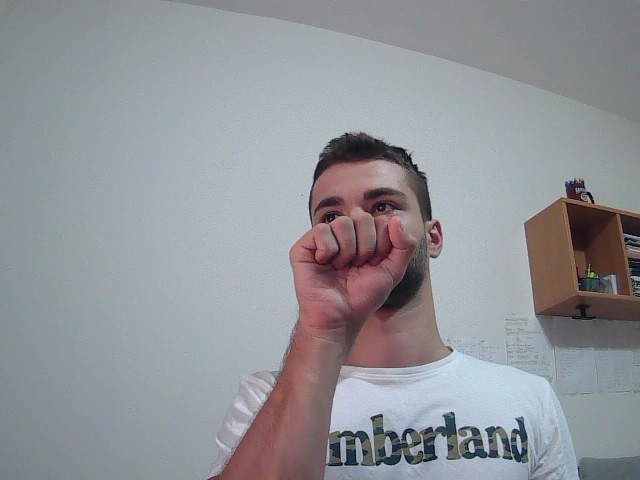a: (230, 208, 417, 457)
